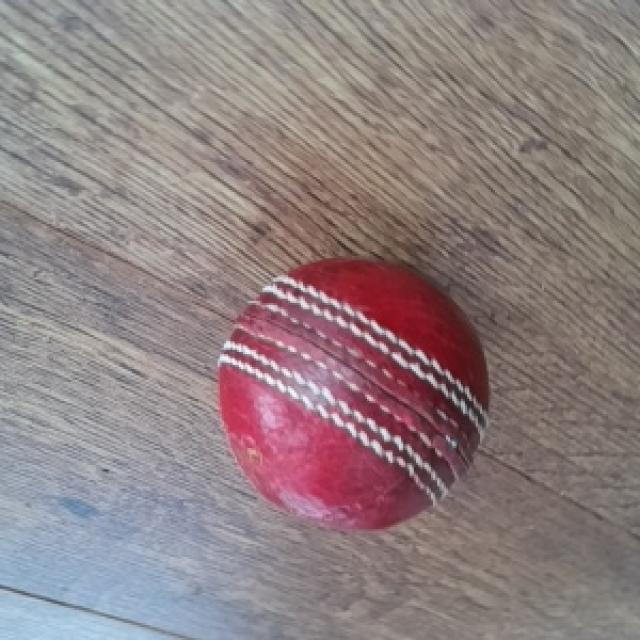ball: (213, 254, 491, 542)
